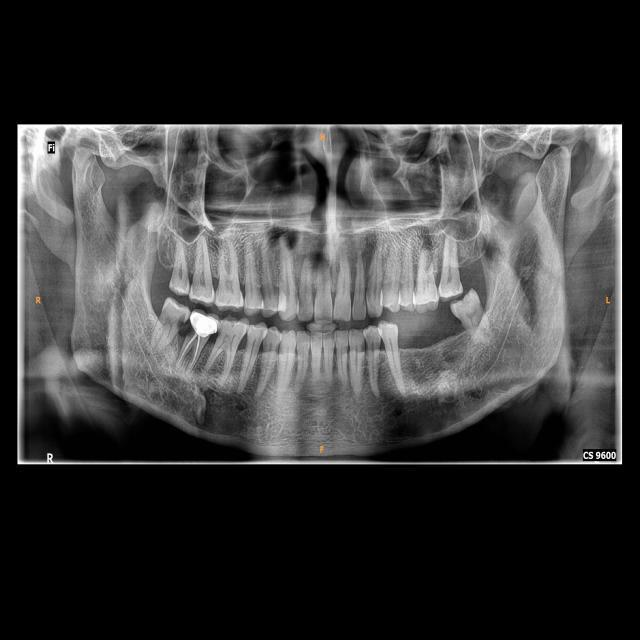dentin-curugu: (173, 312, 192, 336)
kanal-tedavisi: (178, 336, 204, 370)
kaplama: (189, 305, 223, 340)
